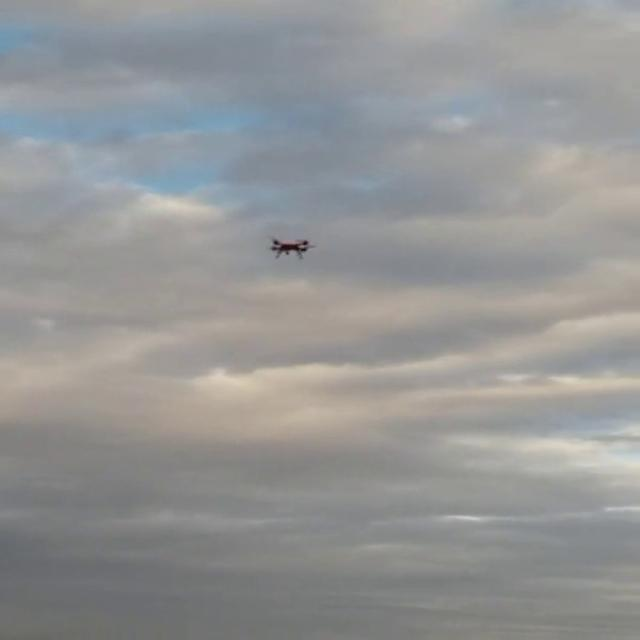drone: (261, 230, 321, 262)
